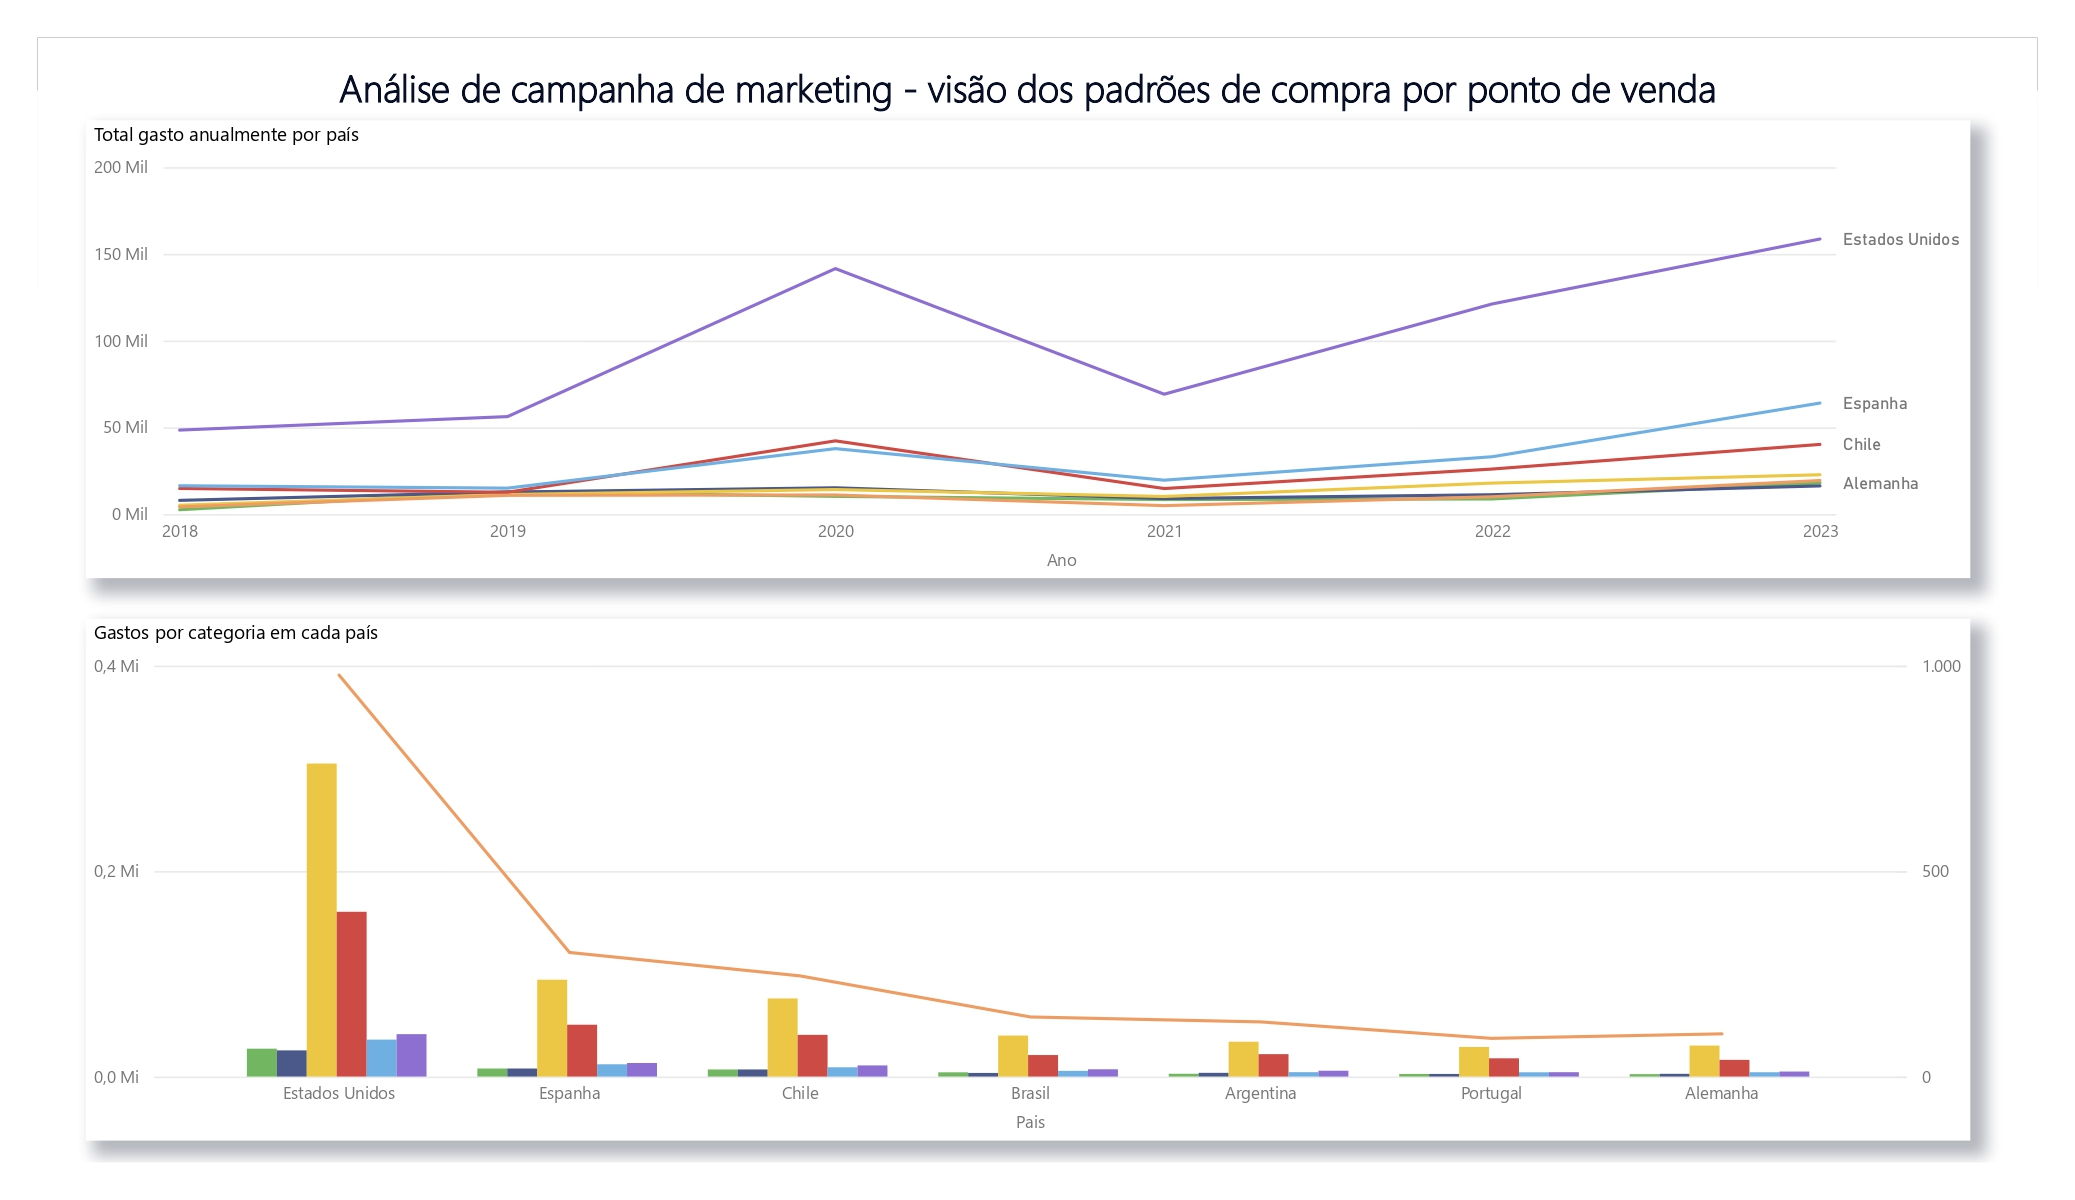

This screenshot's page, from the dashboard's own definition file:
{"tool":"powerbi","page":{"name":"Visão pontos de venda","canvas":[1280,720],"ordinal":3},"visuals":[{"type":"lineClusteredColumnComboChart","title":"Gastos por categoria em cada país","fields":{"Category":["dadosmarketing.Pais"],"Y":["Sum(dadosmarketing.Gasto com Alimentos)","Sum(dadosmarketing.Gasto com Brinquedos)","Sum(dadosmarketing.Gasto com Eletronicos)","Sum(dadosmarketing.Gasto com Moveis)","Sum(dadosmarketing.Gasto com Utilidades)","Sum(dadosmarketing.Gasto com Vestuario)"],"Y2":["CountNonNull(dadosmarketing.ID)"]},"box":[30.9,372.2,1206.4,334],"z":0},{"type":"textbox","box":[30.9,10.3,1206.4,42.7],"z":1},{"type":"lineChart","title":"Total gasto anualmente por país","fields":{"Y":["Sum(dadosmarketing.totalgasto)"],"Series":["dadosmarketing.Pais"],"Category":["dadosmarketing.Data Cadastro.Variation.Hierarquia de datas.Ano"]},"box":[30.9,53,1206.4,292.8],"z":2}]}

Visuals, with their boxes on the page's 1280x720 design canvas (x1, y1, x2, y2). These are canvas units, not pixel positions in the 2075x1200 screenshot, which may show the page scaled, cropped or inside an application window:
"Gastos por categoria em cada país" lineClusteredColumnComboChart: BBox(31, 372, 1237, 706)
textbox: BBox(31, 10, 1237, 53)
"Total gasto anualmente por país" lineChart: BBox(31, 53, 1237, 346)
